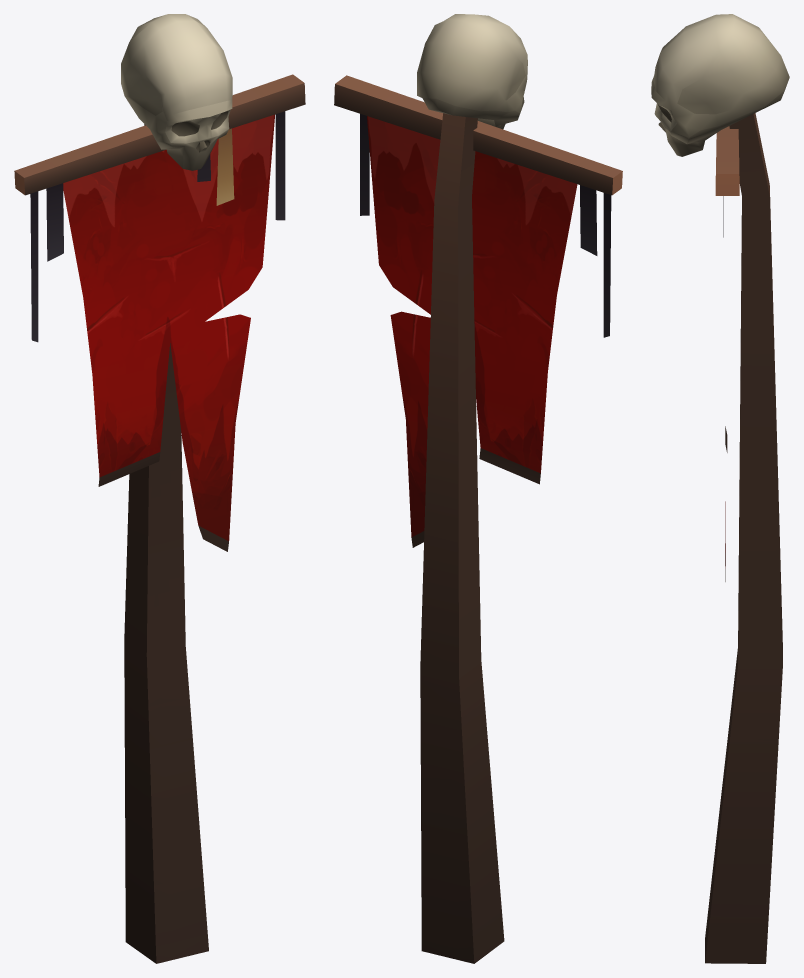
The model's file is Skull_Pole_1A.fbx.
3 views of the same model, side by side, from view 1: azimuth 30°, elevation 25°; view 2: azimuth 150°, elevation 25°; view 3: azimuth 270°, elevation 25° (orthographic).
Parts seen in each view (by area): view 1: Skull_Pole_1A; view 2: Skull_Pole_1A; view 3: Skull_Pole_1A.
Boxes of the visible parts, bbox=[...] form: Skull_Pole_1A: bbox=[14, 14, 305, 963]; Skull_Pole_1A: bbox=[334, 14, 622, 963]; Skull_Pole_1A: bbox=[651, 14, 789, 963].
Size of the model in its own units: 59.45 by 189 by 25.51.
